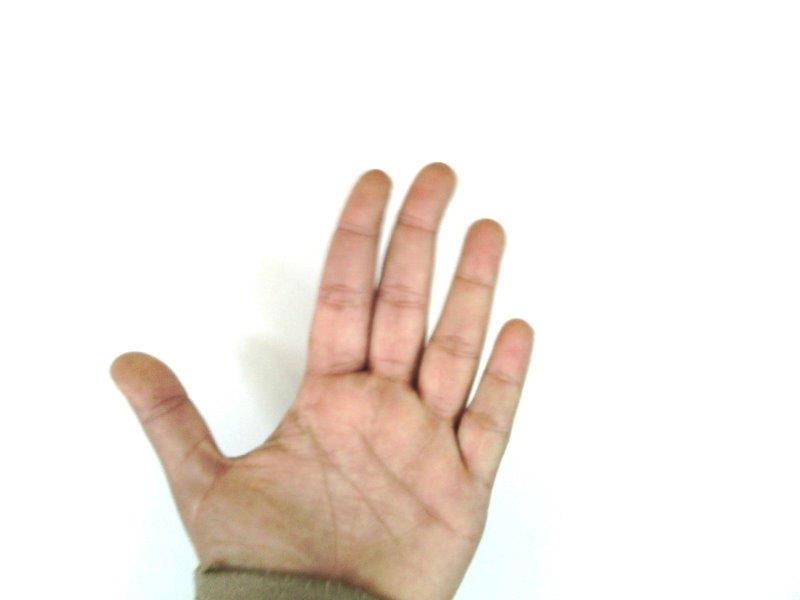hand: (111, 164, 535, 580)
